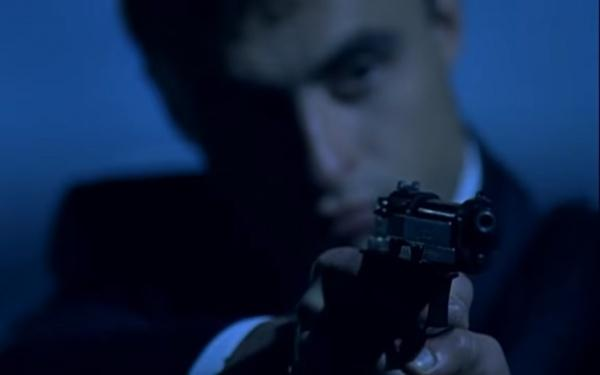Gun: (367, 181, 502, 329)
